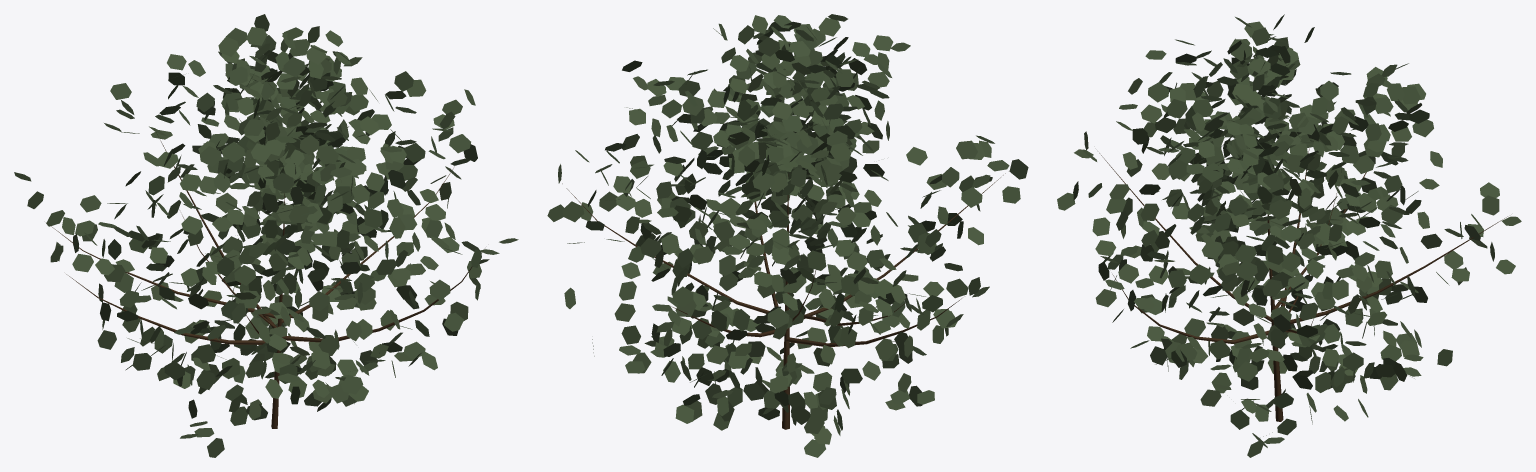
Rendered from bush-leaves.glb.
The picture shows the model from 3 angles, left to right: view 1: azimuth 30°, elevation 25°; view 2: azimuth 150°, elevation 25°; view 3: azimuth 270°, elevation 25°; orthographic projection. The views are drawn at different scales.
Visible parts, largest first — view 1: v_leaves; view 2: v_leaves; view 3: v_leaves.
Part boxes in pixels (<box>): v_leaves: <box>14,14,518,457</box>; v_leaves: <box>547,14,1028,457</box>; v_leaves: <box>1057,14,1521,457</box>.
Bounding box in the file's own units: 4.43 × 4.1 × 4.35.
